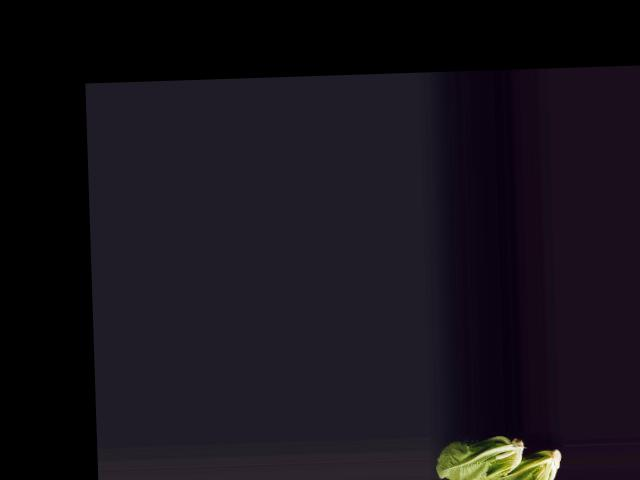lettuce: (473, 439, 563, 480)
